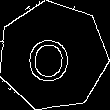O_N: (30, 29, 77, 84)
